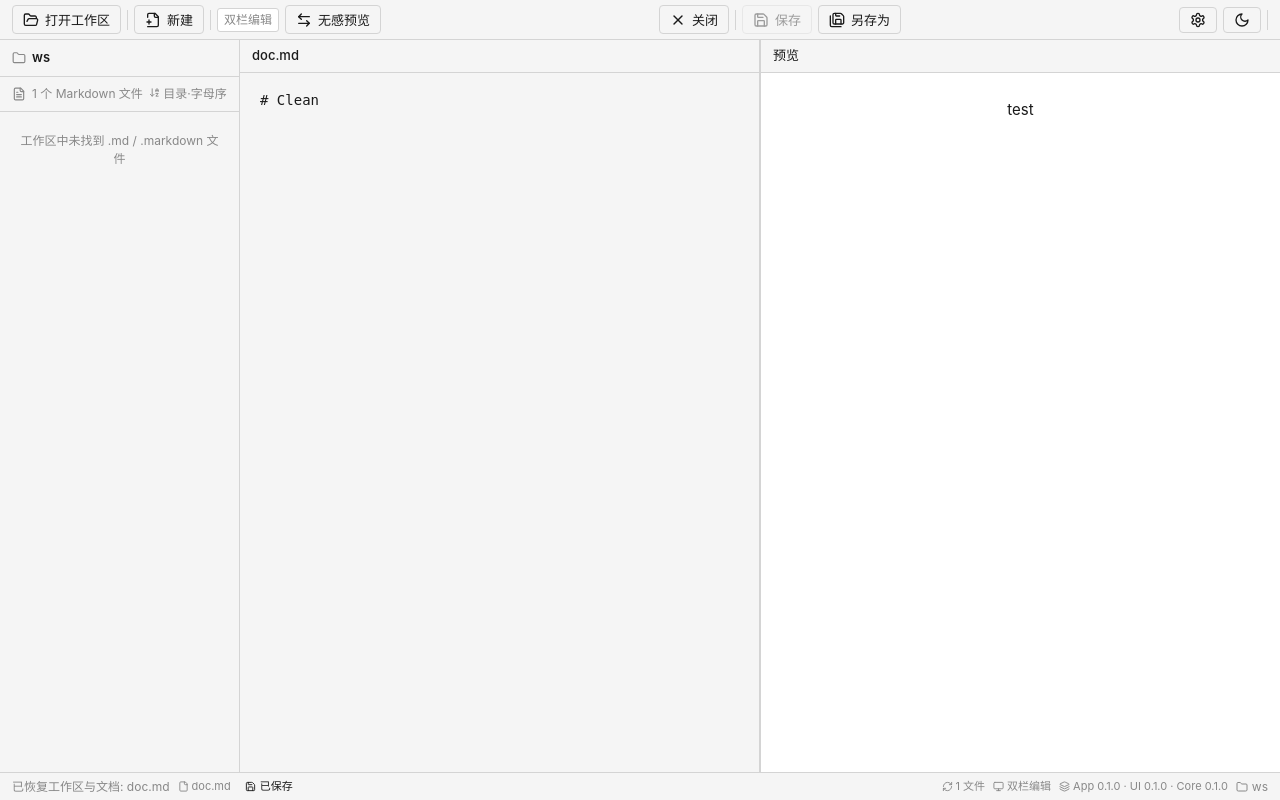
Test: Close document (Item A) › isDirty=false → clean close, doc placeholder shown
Expected: the text box with class "content-editor-textarea" is shown, top-left (240, 72), bottom-right (759, 772)
Click the button "关闭": (694, 20) top-left (659, 5), bottom-right (729, 34)
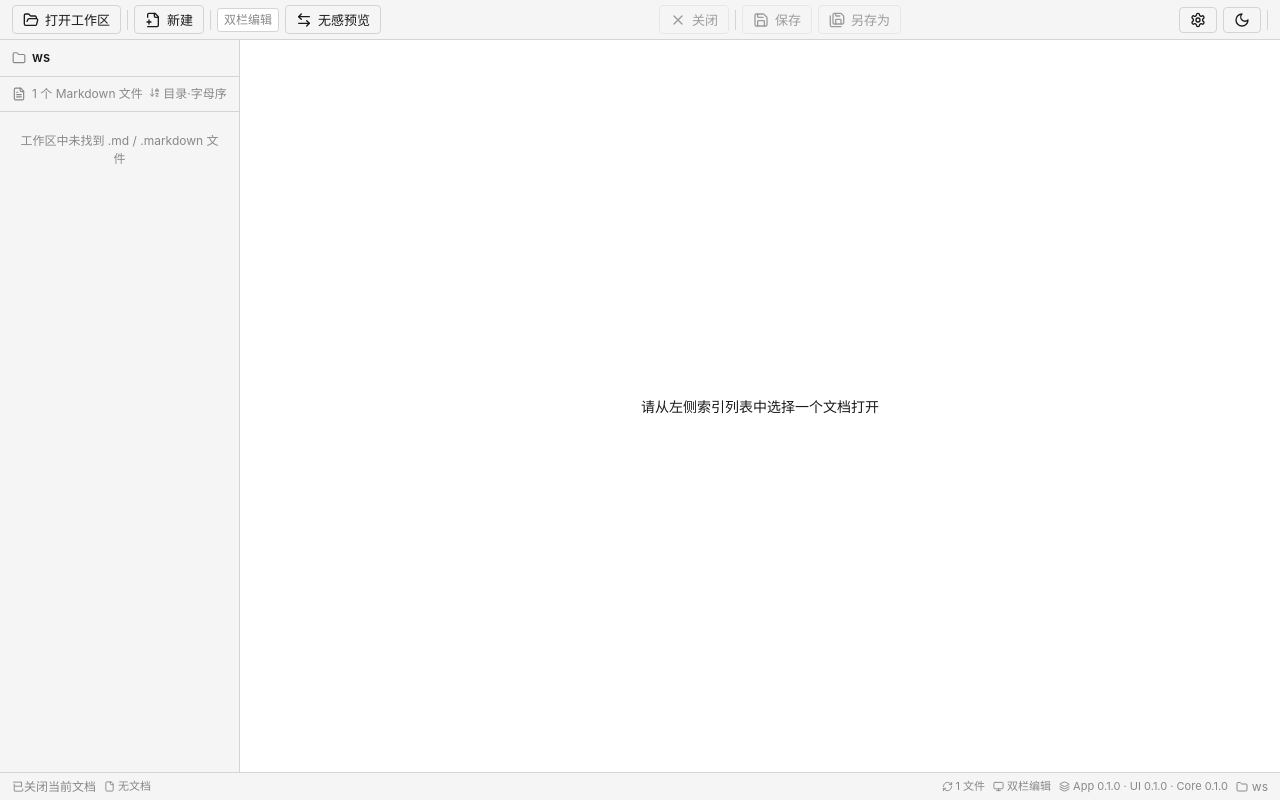
Expected: the text box with class "content-editor-textarea" is gone
Expected: the text "请从左侧索引列表中选择" is shown, top-left (641, 398), bottom-right (879, 414)
